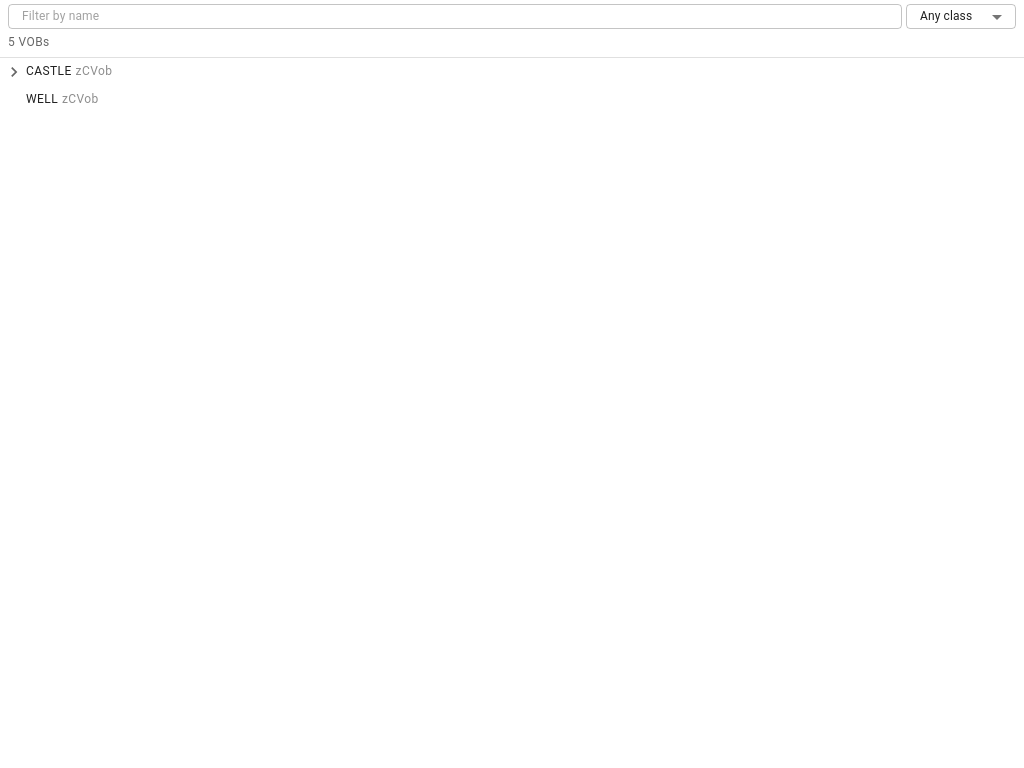
WorldSceneTree › labels a VOB by name, else by visual, and always shows the class
This screenshot has width=1024, height=768.
Expected: the text "CASTLE" is shown, [26, 62, 72, 82]
Expected: the text "zCVob" next to "CASTLE" is shown, [76, 64, 112, 78]
Click the element with test id "world-vob-toggle-0" at (13, 72), box [4, 62, 22, 82]
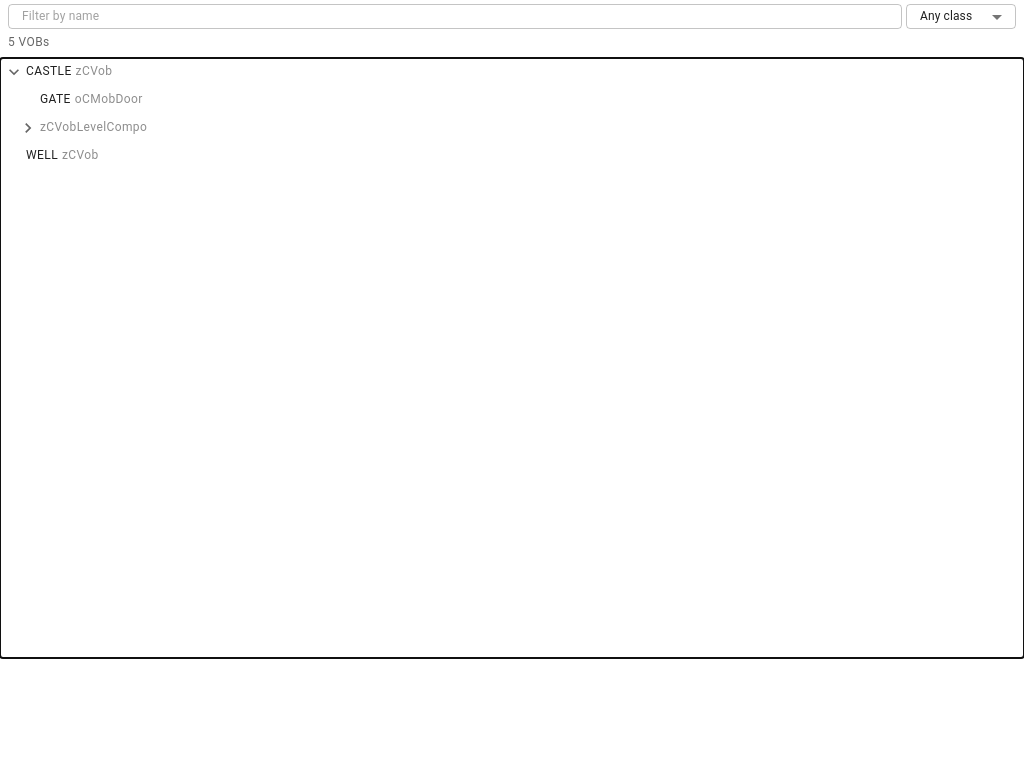
Click the element with test id "world-vob-toggle-2" at (27, 128), box [18, 118, 36, 138]
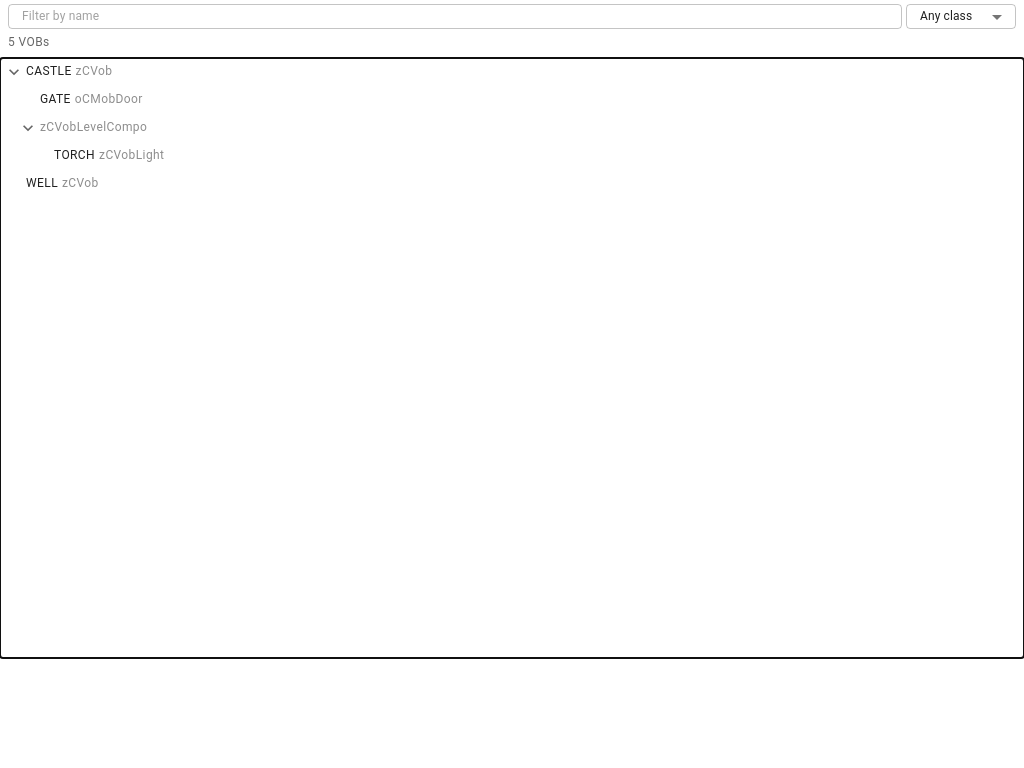
Result: the text "TORCH" is shown at [54, 146, 95, 166]
